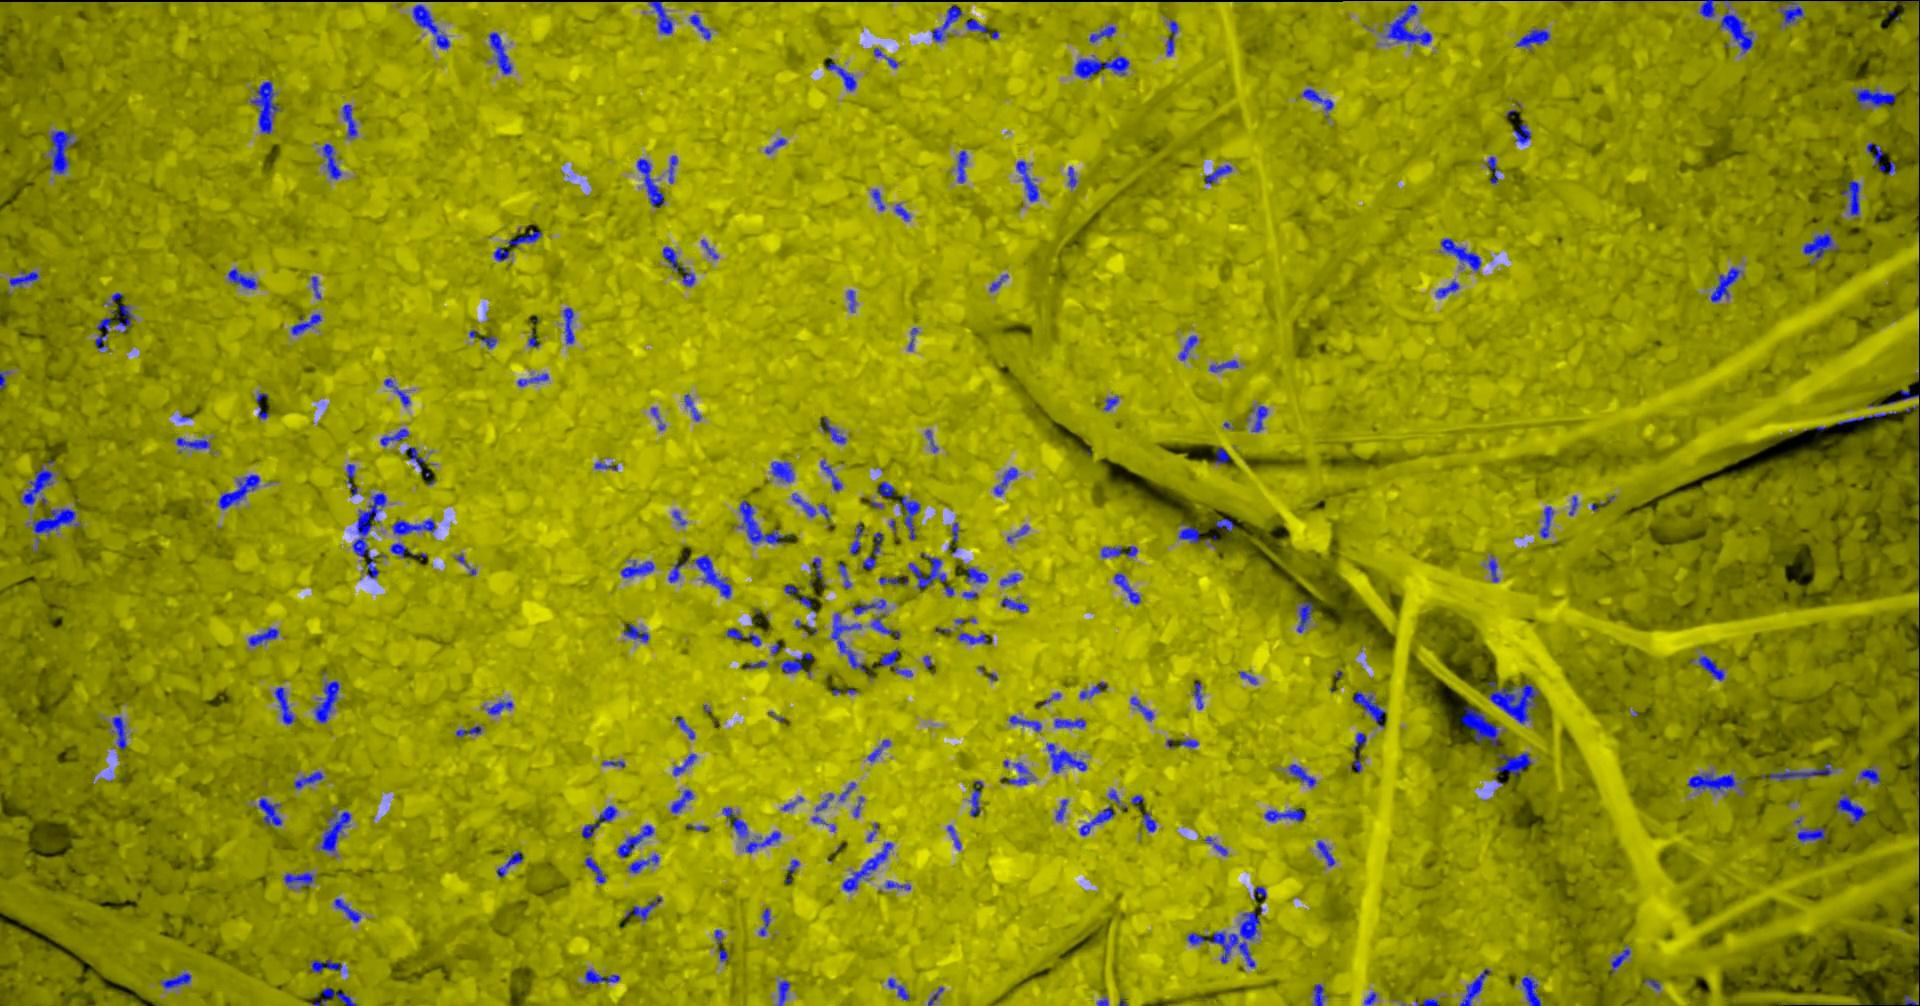ant: (352, 493, 386, 578), (841, 841, 891, 890), (738, 500, 790, 544), (1487, 681, 1538, 723), (830, 612, 866, 671), (1384, 3, 1431, 44), (411, 4, 450, 48), (693, 554, 731, 598), (249, 81, 279, 133), (32, 508, 77, 542), (1460, 706, 1498, 746), (1719, 8, 1752, 52), (218, 474, 259, 509), (317, 809, 350, 851), (20, 465, 55, 504), (636, 158, 664, 206), (1440, 238, 1481, 271), (908, 553, 946, 587), (662, 246, 695, 286), (1073, 55, 1129, 77), (616, 824, 653, 857), (1046, 742, 1086, 772), (582, 805, 616, 840), (930, 5, 963, 41), (1352, 691, 1385, 727), (1761, 763, 1832, 780), (1686, 770, 1737, 793), (1802, 232, 1837, 264), (1459, 968, 1490, 1005), (50, 130, 75, 173), (1710, 267, 1741, 302), (791, 492, 829, 520), (314, 680, 339, 721), (825, 57, 855, 90), (488, 32, 510, 74), (1079, 807, 1114, 835), (1015, 160, 1037, 201), (1835, 793, 1865, 823), (1865, 142, 1895, 173), (625, 895, 662, 920), (879, 649, 912, 676), (1851, 88, 1895, 108), (1769, 0, 1803, 25), (1495, 752, 1531, 775), (1836, 412, 1896, 426), (648, 0, 672, 34), (900, 495, 919, 539), (312, 986, 356, 1005), (1112, 573, 1139, 603), (744, 831, 780, 854), (274, 687, 295, 724), (1515, 28, 1549, 50), (723, 807, 747, 837), (1302, 88, 1333, 111), (290, 312, 321, 335), (321, 144, 342, 179), (862, 532, 883, 568), (383, 379, 409, 406), (258, 796, 282, 826), (819, 460, 841, 492), (781, 652, 813, 673), (1002, 762, 1034, 784), (1841, 179, 1860, 215), (497, 850, 522, 876), (993, 467, 1017, 495), (333, 898, 361, 922), (1878, 389, 1919, 405), (870, 616, 900, 638), (820, 417, 844, 443), (1698, 655, 1724, 680), (1288, 763, 1316, 786), (1520, 976, 1542, 1005), (726, 627, 759, 647), (391, 520, 436, 533), (227, 268, 257, 288), (248, 627, 278, 647), (1203, 164, 1230, 184), (620, 560, 654, 577), (629, 854, 658, 873), (1130, 696, 1153, 720), (1297, 600, 1313, 633), (390, 542, 425, 558), (584, 856, 604, 883), (8, 271, 39, 287), (94, 318, 110, 349), (507, 230, 541, 245), (670, 789, 693, 812), (672, 753, 696, 775), (690, 14, 710, 39), (404, 446, 424, 471), (1263, 808, 1304, 821), (1316, 840, 1335, 866), (1610, 948, 1629, 974), (342, 104, 357, 137), (110, 716, 126, 749), (1008, 715, 1041, 730), (160, 972, 190, 988), (683, 392, 701, 420), (888, 977, 909, 1000), (872, 47, 897, 67), (378, 428, 408, 445), (293, 771, 323, 788), (584, 969, 618, 983), (867, 739, 889, 761), (770, 461, 792, 481), (455, 553, 475, 575), (674, 716, 695, 739), (116, 304, 132, 332), (852, 600, 885, 614), (1178, 335, 1197, 359), (623, 622, 648, 641), (1203, 836, 1227, 855), (969, 780, 982, 815), (1796, 826, 1825, 841), (1539, 506, 1553, 537), (310, 958, 342, 972), (1088, 25, 1115, 42), (1079, 682, 1106, 699), (1251, 405, 1267, 431), (283, 873, 312, 887), (1435, 279, 1458, 297), (563, 307, 574, 343), (1006, 525, 1029, 542), (1001, 597, 1027, 612), (517, 373, 549, 386), (850, 522, 862, 554), (1166, 20, 1177, 55), (175, 437, 210, 448), (811, 558, 825, 586), (783, 859, 799, 883), (345, 464, 357, 495), (1178, 525, 1199, 542), (667, 561, 684, 582), (965, 567, 987, 583), (486, 700, 512, 714), (957, 633, 992, 643), (946, 826, 961, 848), (1512, 124, 1530, 144), (1486, 156, 1498, 183), (700, 239, 717, 258), (255, 392, 268, 419), (838, 561, 851, 588), (1209, 359, 1238, 371), (764, 137, 786, 152), (1858, 767, 1879, 782), (1312, 983, 1327, 1005), (957, 150, 968, 182), (815, 793, 833, 810), (838, 782, 855, 801), (927, 986, 943, 1005), (965, 18, 985, 33), (1054, 718, 1084, 728), (776, 981, 789, 1005), (758, 908, 770, 935), (781, 796, 803, 810), (989, 274, 1007, 291), (1487, 555, 1498, 580), (1351, 732, 1366, 751), (1055, 799, 1068, 821), (1699, 0, 1716, 17), (894, 203, 910, 220), (1214, 446, 1229, 464), (877, 575, 908, 584), (1192, 682, 1203, 709), (455, 725, 481, 735), (1215, 517, 1234, 531), (1142, 812, 1156, 831), (1100, 546, 1123, 558), (871, 189, 884, 210), (999, 573, 1020, 586), (885, 880, 910, 890), (668, 155, 677, 183), (876, 481, 894, 495), (1350, 752, 1361, 772), (493, 246, 509, 260), (481, 334, 497, 348), (1103, 395, 1117, 410), (1239, 671, 1256, 683), (311, 276, 320, 298), (527, 329, 538, 347), (846, 290, 855, 311), (1067, 166, 1076, 187), (1363, 991, 1375, 1005), (594, 461, 617, 469), (1178, 738, 1197, 747), (1253, 887, 1266, 899), (0, 370, 8, 390), (1903, 995, 1919, 1005), (783, 584, 797, 594), (1417, 998, 1439, 1005)
